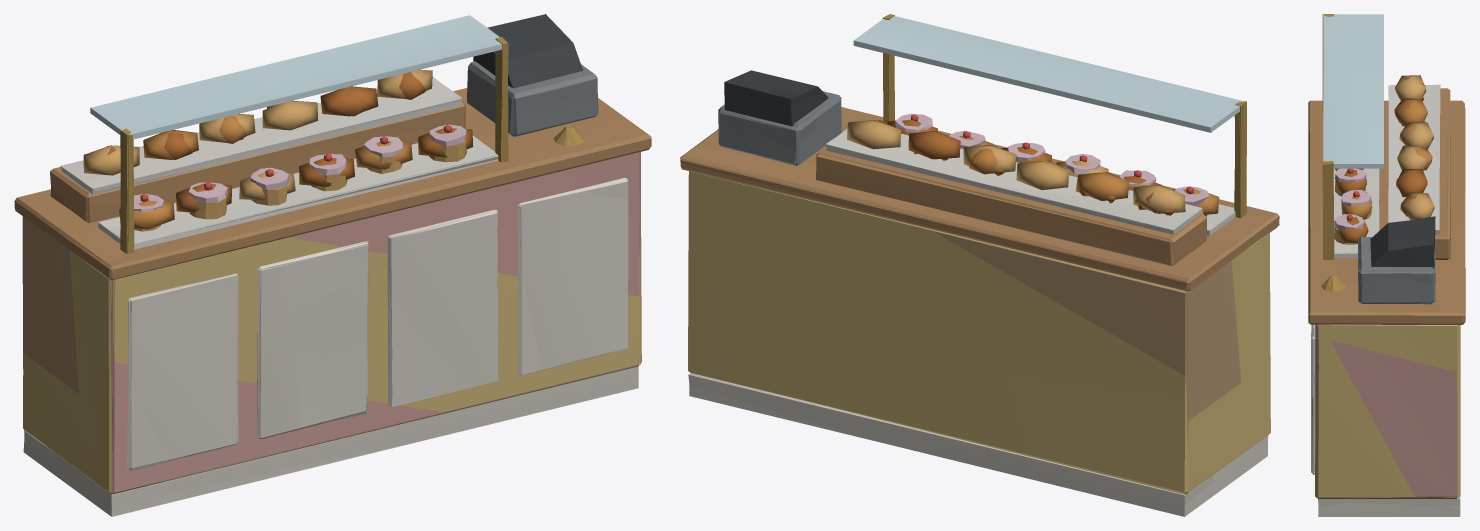
The model's file is bakery.counter.glb.
3 views of the same model, side by side, from view 1: azimuth 30°, elevation 25°; view 2: azimuth 150°, elevation 25°; view 3: azimuth 270°, elevation 25° (orthographic). The views are drawn at different scales.
Visible parts, largest first — view 1: bakery.counter.v0.mesh, bakery.counter.v1.mesh, bakery.counter.v2.mesh; view 2: bakery.counter.v0.mesh, bakery.counter.v1.mesh, bakery.counter.v2.mesh; view 3: bakery.counter.v0.mesh, bakery.counter.v2.mesh, bakery.counter.v1.mesh.
Part boxes in pixels (x1=…): bakery.counter.v0.mesh: x1=14, y1=14, x2=651, y2=494; bakery.counter.v1.mesh: x1=14, y1=14, x2=644, y2=516; bakery.counter.v2.mesh: x1=15, y1=26, x2=650, y2=504; bakery.counter.v0.mesh: x1=681, y1=16, x2=1279, y2=504; bakery.counter.v1.mesh: x1=681, y1=15, x2=1279, y2=516; bakery.counter.v2.mesh: x1=680, y1=14, x2=1279, y2=516; bakery.counter.v0.mesh: x1=1308, y1=14, x2=1465, y2=516; bakery.counter.v2.mesh: x1=1308, y1=16, x2=1465, y2=516; bakery.counter.v1.mesh: x1=1311, y1=14, x2=1464, y2=507.
Bounding box in the file's own units: 2 × 1.32 × 0.6234.
